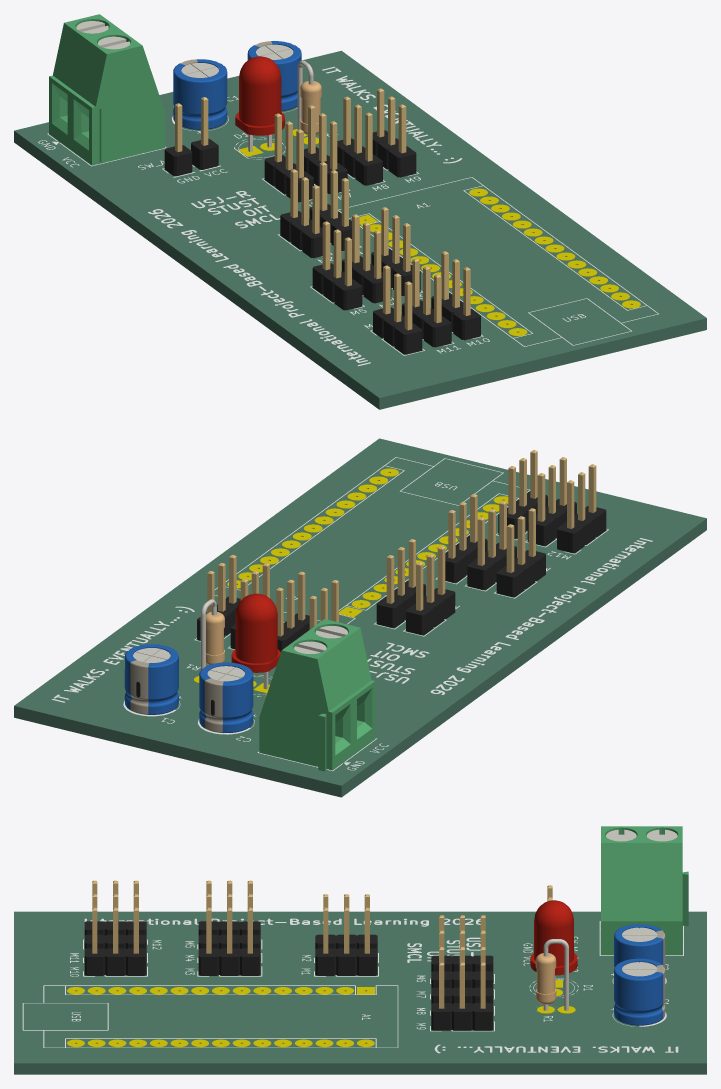
Rendered from board.glb.
The picture shows the model from 3 angles, top to bottom: view 1: azimuth 30°, elevation 25°; view 2: azimuth 150°, elevation 25°; view 3: azimuth 270°, elevation 25°; orthographic projection. The views are drawn at different scales.
Visible parts, largest first — view 1: =>[0:1:1:16], =>[0:1:1:3] (×12), =>[0:1:1:5], =>[0:1:1:15], =>[0:1:1:7] (×2), =>[0:1:1:14], =>[0:1:1:13], =>[0:1:1:11] (×2), =>[0:1:1:9]; view 2: =>[0:1:1:16], =>[0:1:1:3] (×12), =>[0:1:1:5], =>[0:1:1:7] (×2), =>[0:1:1:15], =>[0:1:1:14], =>[0:1:1:13], =>[0:1:1:9]; view 3: =>[0:1:1:16], =>[0:1:1:3] (×12), =>[0:1:1:5], =>[0:1:1:15], =>[0:1:1:7] (×2), =>[0:1:1:14], =>[0:1:1:13], =>[0:1:1:9].
Part boxes in pixels (box(x1,y1,x2,y2)): =>[0:1:1:16]: box(14, 50, 706, 409); =>[0:1:1:3] (×12): box(264, 88, 480, 354); =>[0:1:1:5]: box(49, 14, 164, 165); =>[0:1:1:15]: box(38, 66, 658, 365); =>[0:1:1:7] (×2): box(173, 41, 301, 129); =>[0:1:1:14]: box(238, 129, 640, 347); =>[0:1:1:13]: box(235, 56, 284, 151); =>[0:1:1:11] (×2): box(164, 97, 218, 176); =>[0:1:1:9]: box(297, 60, 321, 134); =>[0:1:1:16]: box(14, 438, 706, 797); =>[0:1:1:3] (×12): box(197, 450, 606, 651); =>[0:1:1:5]: box(259, 619, 375, 771); =>[0:1:1:7] (×2): box(124, 644, 253, 732); =>[0:1:1:15]: box(51, 457, 652, 771); =>[0:1:1:14]: box(194, 468, 574, 693); =>[0:1:1:13]: box(231, 593, 280, 689); =>[0:1:1:9]: box(200, 599, 224, 670); =>[0:1:1:16]: box(14, 911, 706, 1074); =>[0:1:1:3] (×12): box(84, 880, 493, 1030); =>[0:1:1:5]: box(601, 826, 688, 955); =>[0:1:1:15]: box(22, 918, 683, 1053); =>[0:1:1:7] (×2): box(614, 924, 665, 1025); =>[0:1:1:14]: box(67, 975, 575, 1047); =>[0:1:1:13]: box(530, 900, 577, 988); =>[0:1:1:9]: box(535, 939, 568, 1010).
Bounding box in the file's own units: 0.044 × 0.0173 × 0.085.
